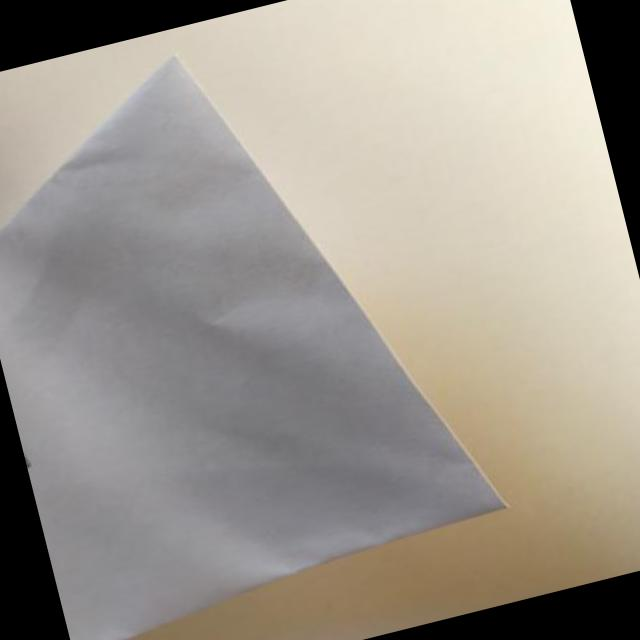paper: (0, 23, 461, 637)
